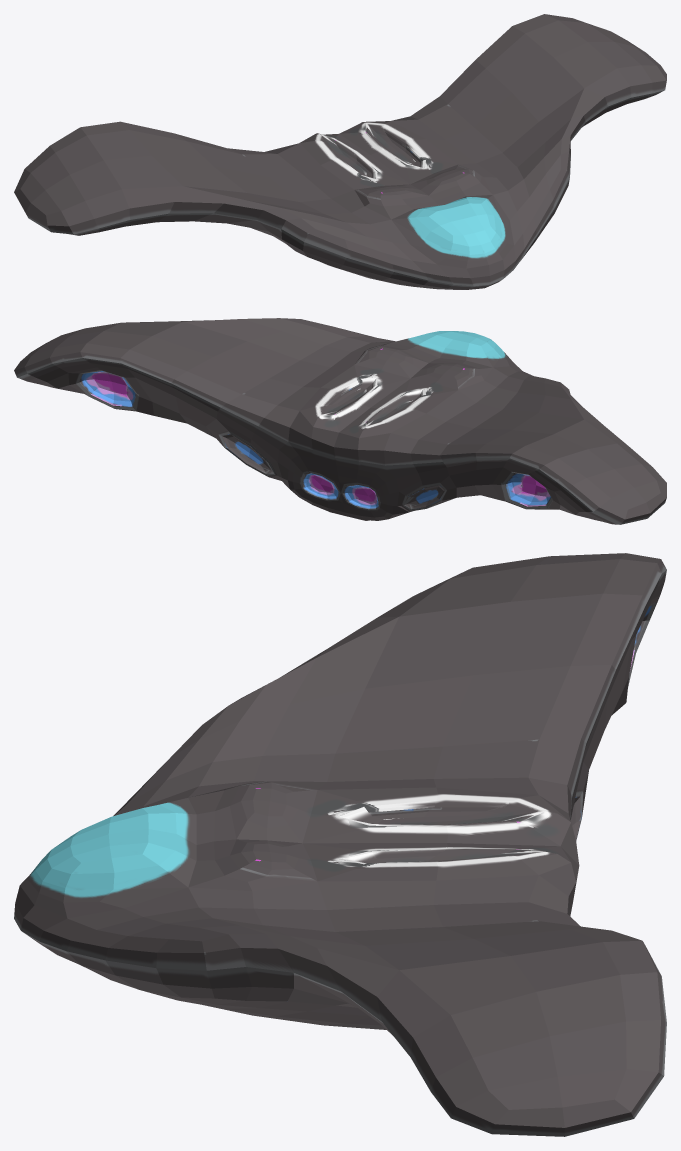
Rendered from planez.fbx.
3 renders of one model, top to bottom at view 1: azimuth 30°, elevation 25°; view 2: azimuth 150°, elevation 25°; view 3: azimuth 270°, elevation 25°, orthographic. The views are drawn at different scales.
Parts seen in each view (by area): view 1: Plane; view 2: Plane; view 3: Plane.
Part boxes in pixels (x1,y1,x2,y2): Plane: [14, 14, 666, 289]; Plane: [14, 318, 666, 524]; Plane: [14, 553, 666, 1136].
Size of the model in its own units: 672 by 139 by 337.
Materials: 1 (1 with a texture image).
